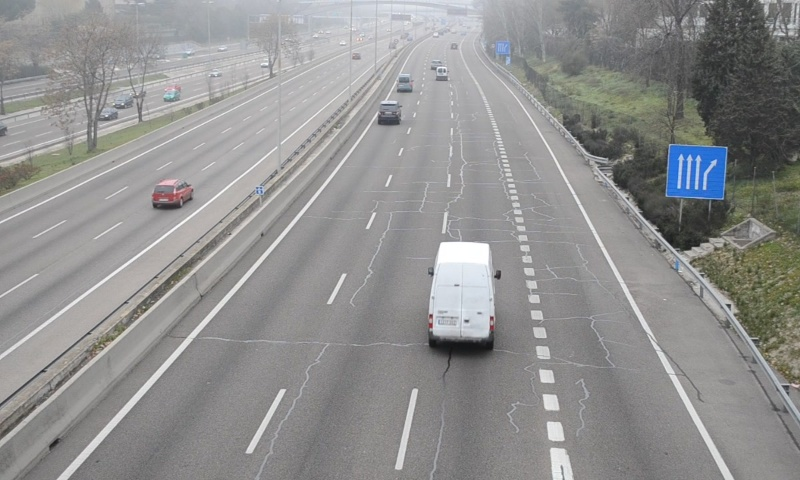car: (378, 100, 402, 125)
van: (429, 242, 495, 349), (395, 72, 413, 92)
